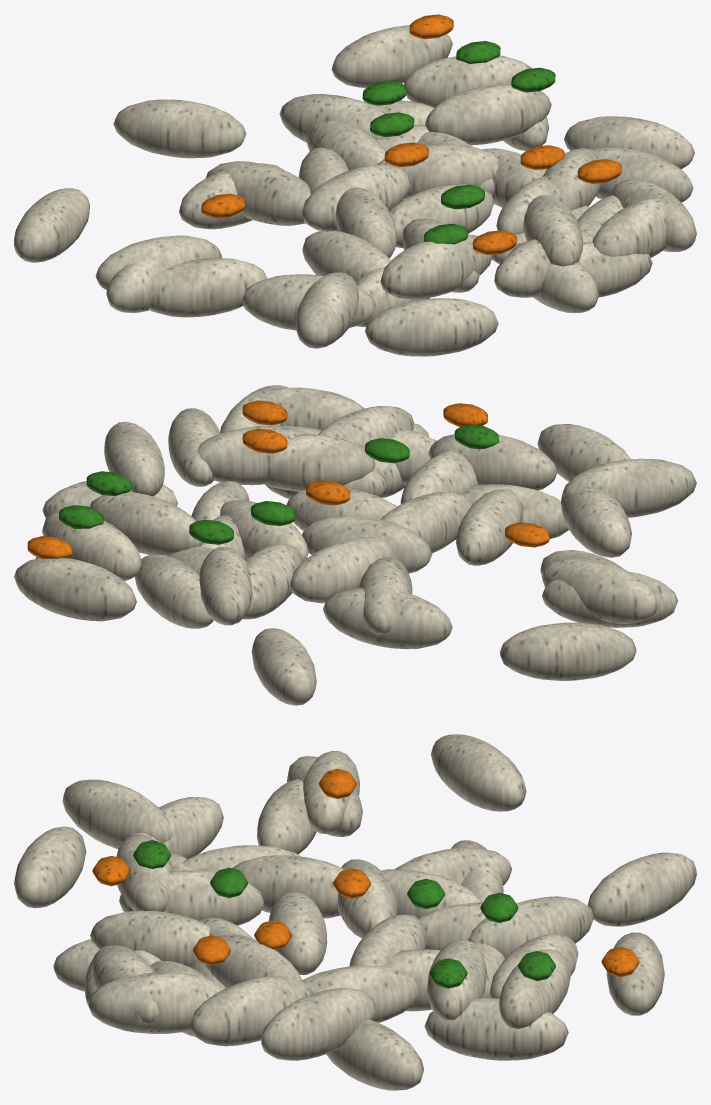
The model's file is food-07-full.glb.
3 views of the same model, one above another, from view 1: azimuth 30°, elevation 25°; view 2: azimuth 150°, elevation 25°; view 3: azimuth 270°, elevation 25° (orthographic). The views are drawn at different scales.
Parts seen in each view (by area): view 1: Food; view 2: Food; view 3: Food.
Part boxes in pixels (<box>): Food: <box>14,14,696,356</box>; Food: <box>14,385,696,705</box>; Food: <box>14,734,696,1090</box>.
Size of the model in its own units: 0.6371 by 0.094 by 0.5854.
1 material, 1 textured.
